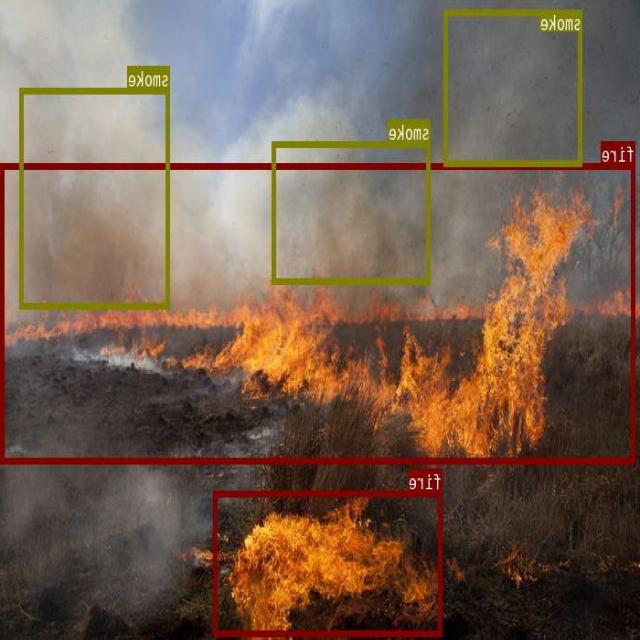fire: (2, 163, 636, 462), (214, 490, 443, 635)
smoke: (21, 86, 171, 308), (273, 140, 431, 282), (445, 9, 583, 165)
